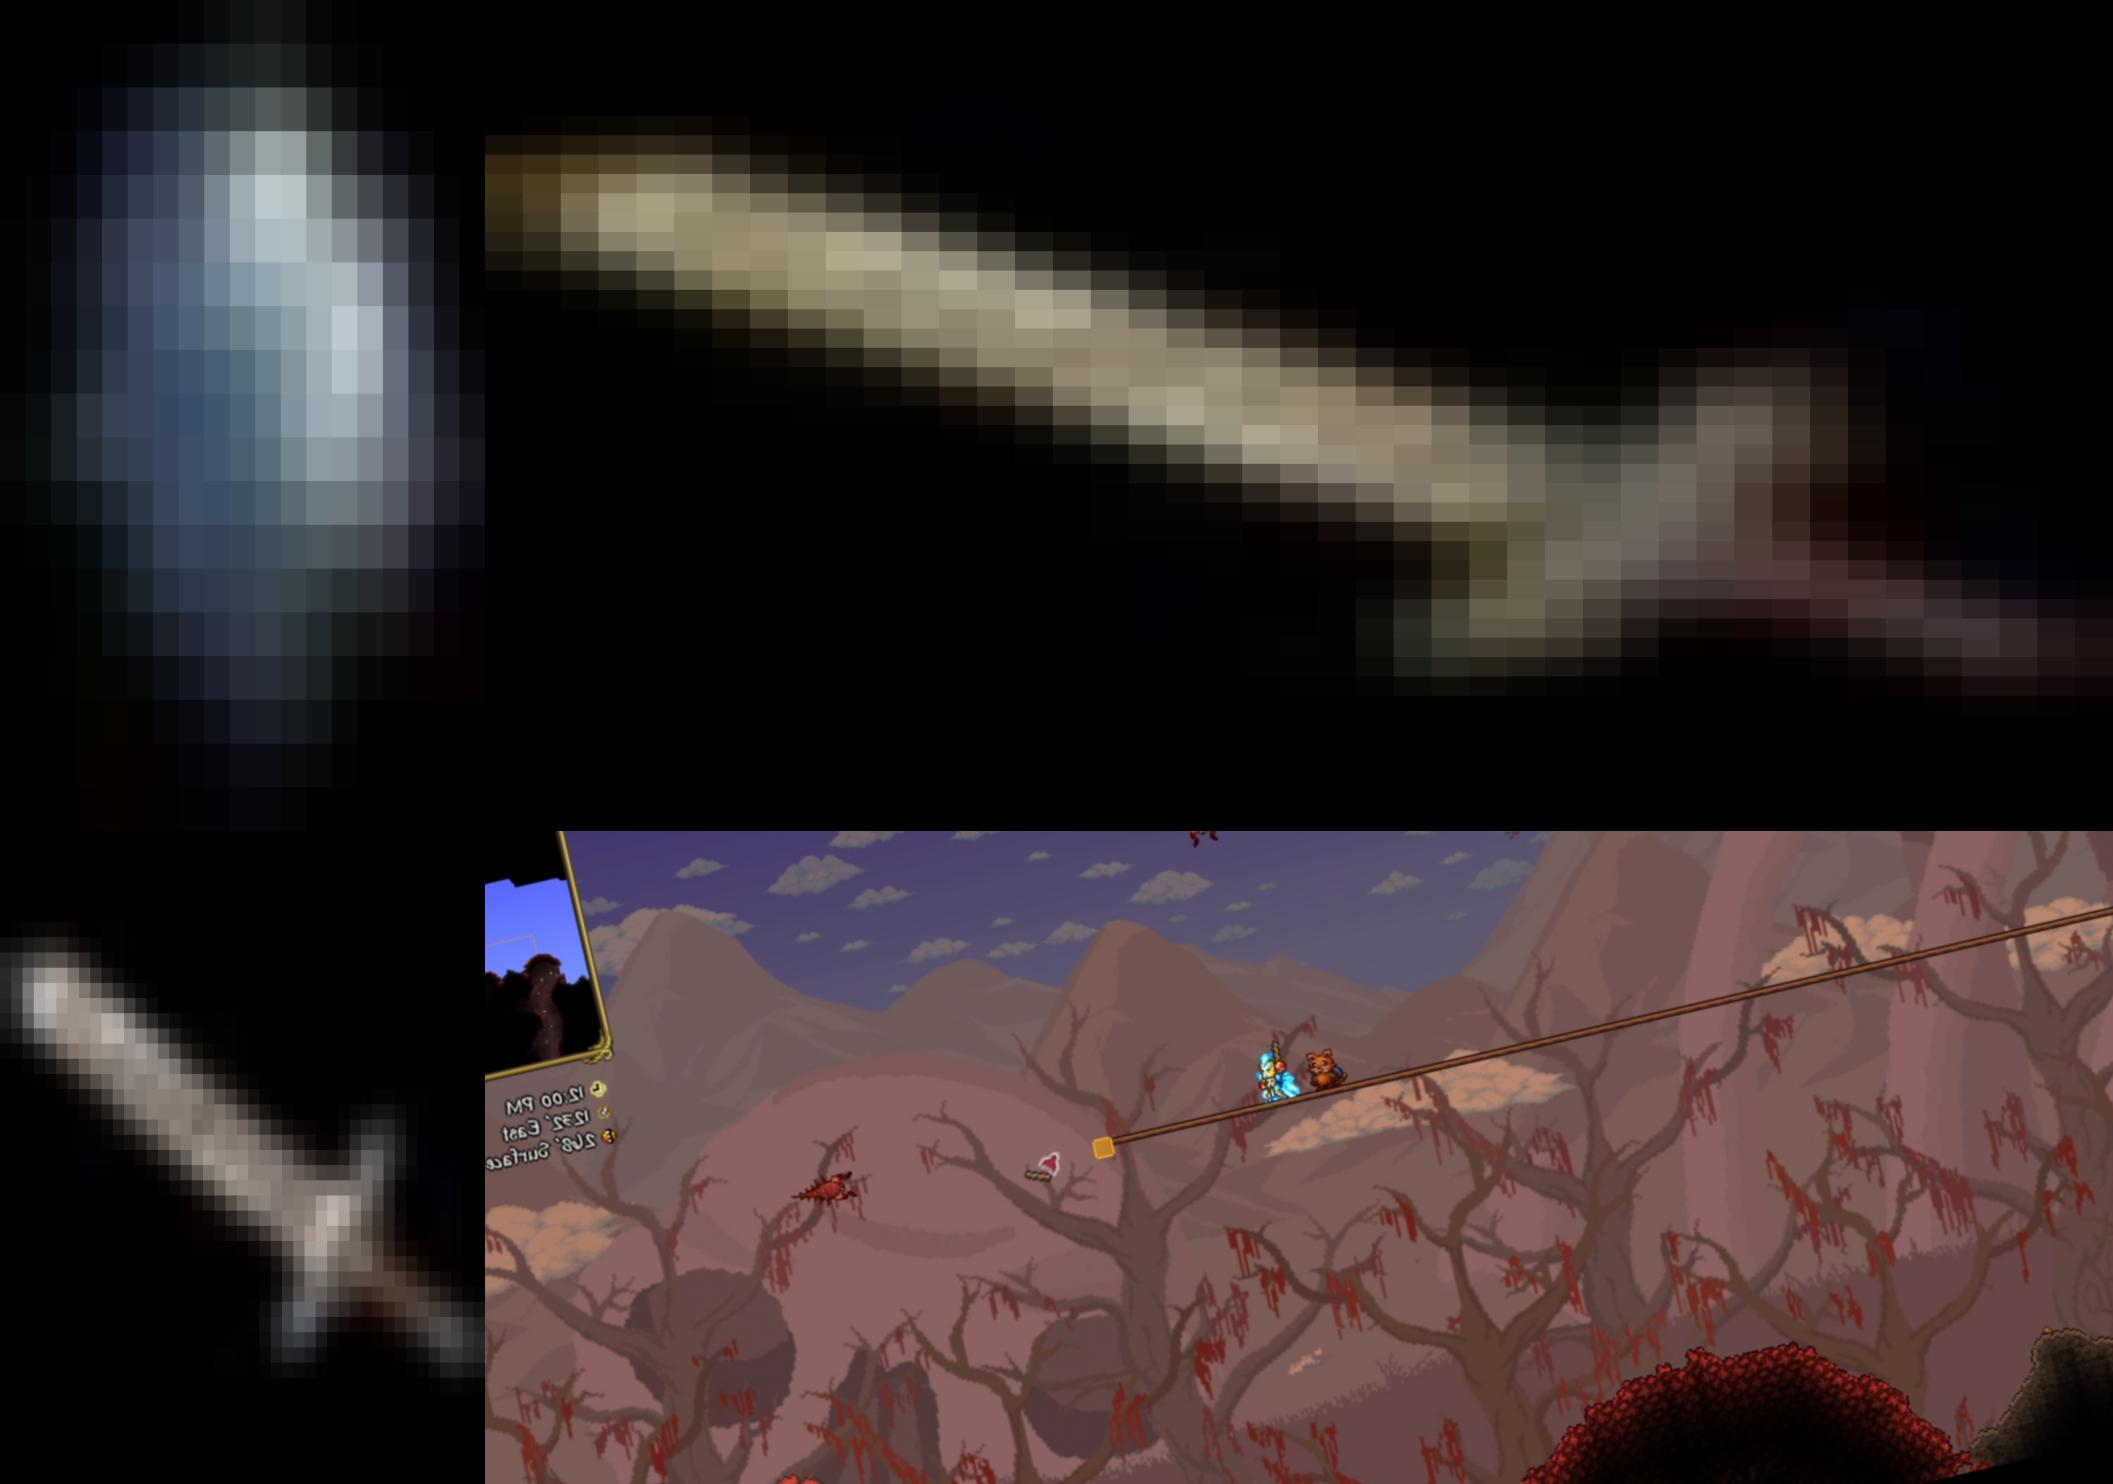crimera: (1174, 830, 1225, 850)
ore: (0, 0, 485, 830)
sword: (485, 0, 2113, 830), (0, 830, 485, 1484)
